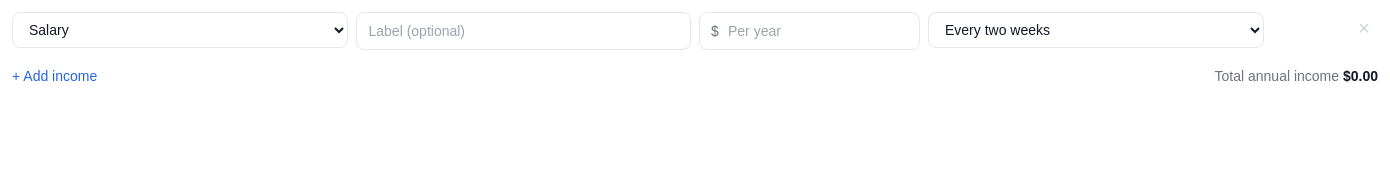
IncomeStreamsEditor › moves an untouched default frequency along with the kind
Select "Bonus" in the dropdown named "Income 1 type" at (180, 30), box [12,12,348,48]
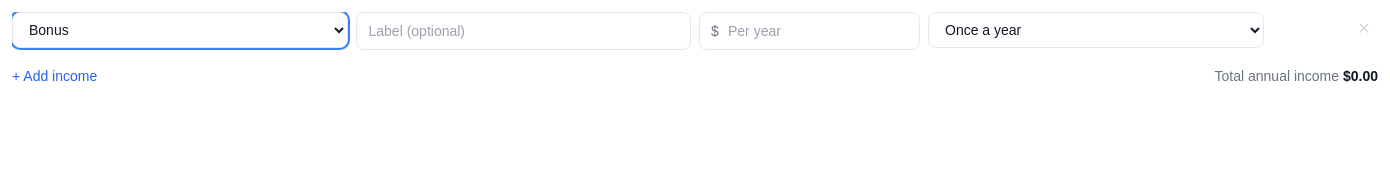
expect the dropdown named "Income 1 frequency" shows "Once a year": met, box [928,12,1264,48]
